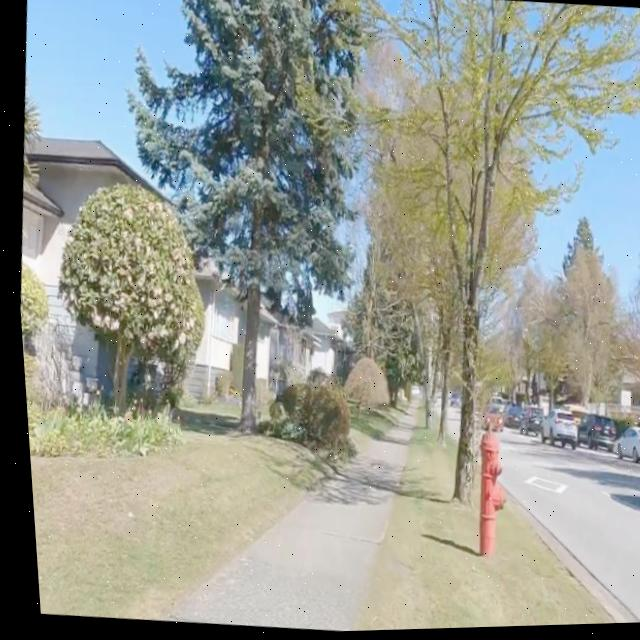Automobile: (572, 416, 609, 452), (535, 413, 570, 450), (606, 429, 640, 467), (513, 407, 537, 437), (479, 402, 496, 433), (633, 449, 640, 505)
Road: (494, 433, 640, 626)
Sidewalk: (155, 412, 404, 633)
